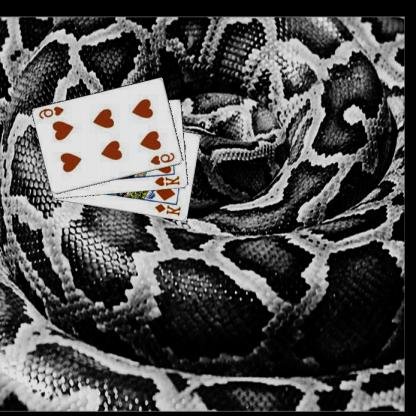6H: (150, 150, 178, 166), (38, 104, 66, 120)
KD: (154, 201, 184, 217)
KH: (154, 173, 183, 188)
